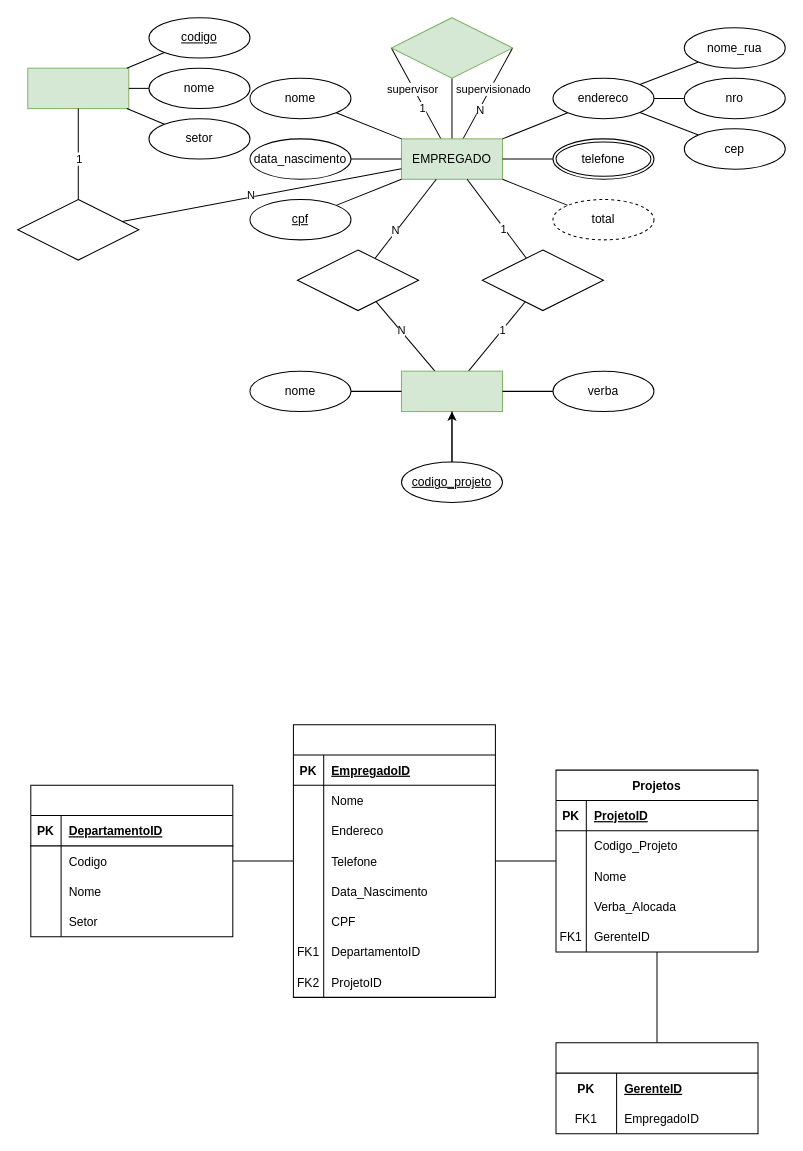
Image size: 803x1151. Some labels were removed from this diagram. The box of each missing label's shape, as (x1, y1, x2, y2) in pixels:
DEPARTAMENTO: (27, 67, 129, 109)
Departamentos: (30, 784, 233, 937)
Empregados: (292, 724, 495, 997)
GERENCIA: (481, 249, 603, 311)
Gerente De Projeto: (555, 1042, 758, 1134)
PROJETO: (400, 370, 502, 412)
SUPERVISIONA: (390, 17, 513, 78)
TEM: (17, 198, 139, 260)
TRABALHA: (296, 249, 419, 311)
